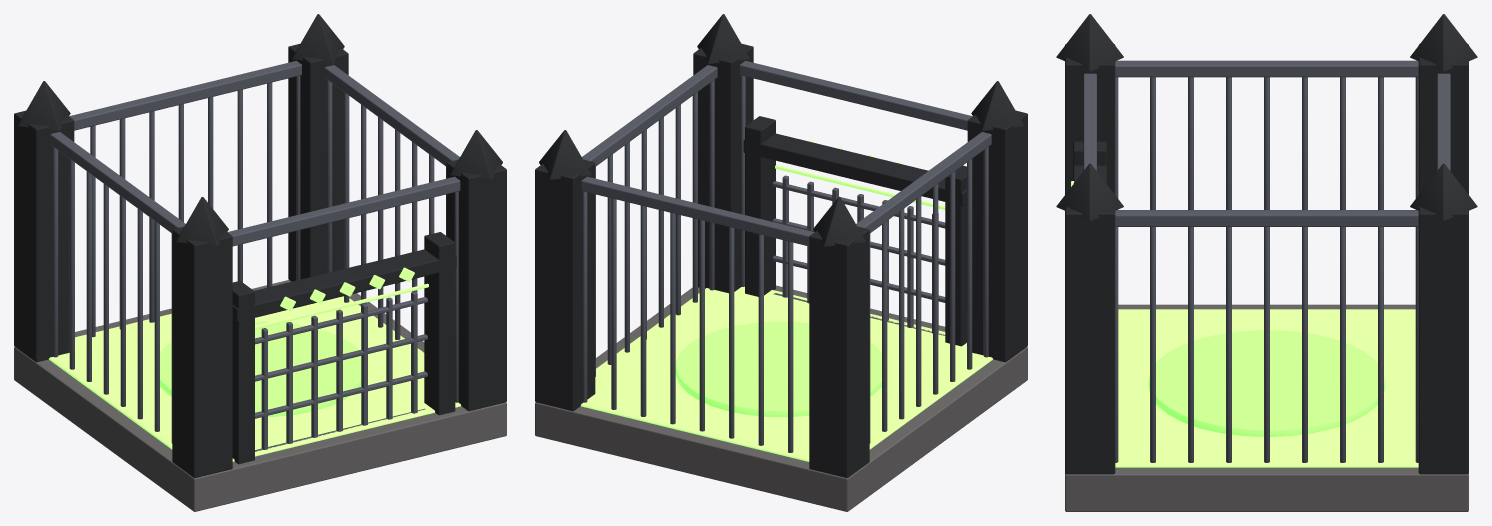
Rendered from MonsterHub_BLOOM_Pit.glb.
The picture shows the model from 3 angles, left to right: view 1: azimuth 30°, elevation 25°; view 2: azimuth 150°, elevation 25°; view 3: azimuth 270°, elevation 25°; orthographic projection. The views are drawn at different scales.
Parts seen in each view (by area): view 1: MonsterHub_BLOOM_Pit, MonsterHub_BLOOM_Pit_Gate; view 2: MonsterHub_BLOOM_Pit, MonsterHub_BLOOM_Pit_Gate; view 3: MonsterHub_BLOOM_Pit.
Boxes of the visible parts, bbox=[...] form: MonsterHub_BLOOM_Pit: bbox=[14, 14, 506, 511]; MonsterHub_BLOOM_Pit_Gate: bbox=[255, 283, 428, 451]; MonsterHub_BLOOM_Pit: bbox=[535, 14, 1027, 511]; MonsterHub_BLOOM_Pit_Gate: bbox=[772, 165, 945, 335]; MonsterHub_BLOOM_Pit: bbox=[1056, 14, 1477, 511].
Size of the model in its own units: 5.05 by 4.48 by 5.05.
